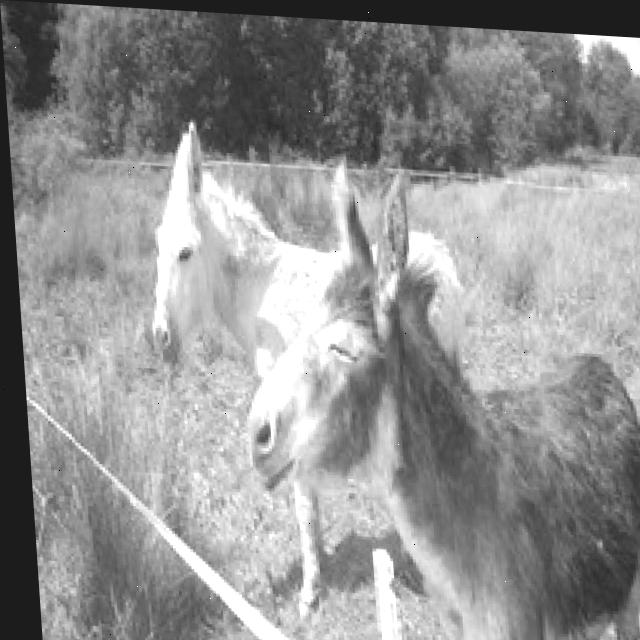Donkey: (226, 150, 640, 640), (136, 116, 486, 629)
